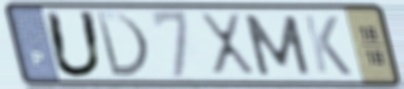7: (147, 7, 194, 82)
D: (92, 10, 152, 80)
K: (300, 12, 355, 78)
M: (240, 12, 315, 78)
U: (42, 8, 107, 80)
X: (196, 11, 260, 79)
